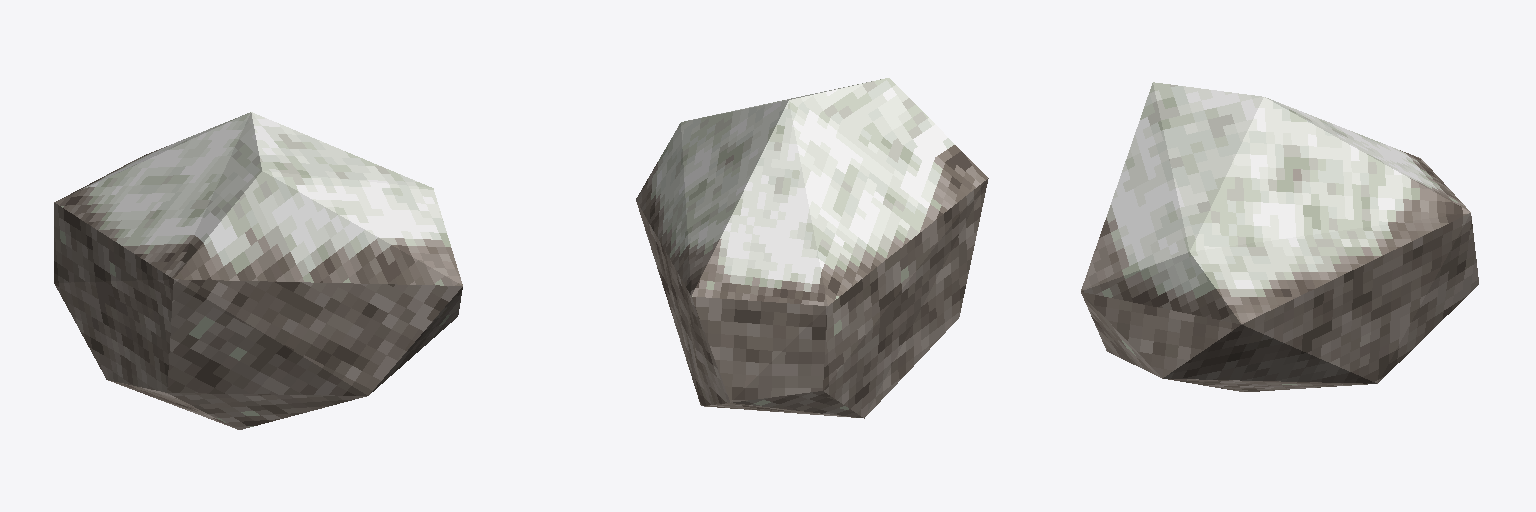
The picture shows the model from 3 angles: view 1: azimuth 30°, elevation 25°; view 2: azimuth 150°, elevation 25°; view 3: azimuth 270°, elevation 25°; orthographic projection.
Visible parts, largest first — view 1: sbouldersno_0; view 2: sbouldersno_0; view 3: sbouldersno_0.
Part boxes in pixels (x1,y1,x2,y2): sbouldersno_0: (54,112,462,429); sbouldersno_0: (636,78,988,418); sbouldersno_0: (1081,82,1478,391).
Size of the model in its own units: 0.8447 by 0.8159 by 0.9629.
1 materials, 1 textured.